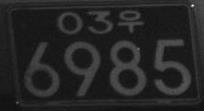0: (57, 11, 83, 35)
3: (87, 10, 113, 34)
5: (154, 39, 191, 96)
6: (22, 40, 61, 98)
8: (108, 39, 146, 97)
9: (64, 40, 101, 96)
우: (118, 9, 143, 33)
